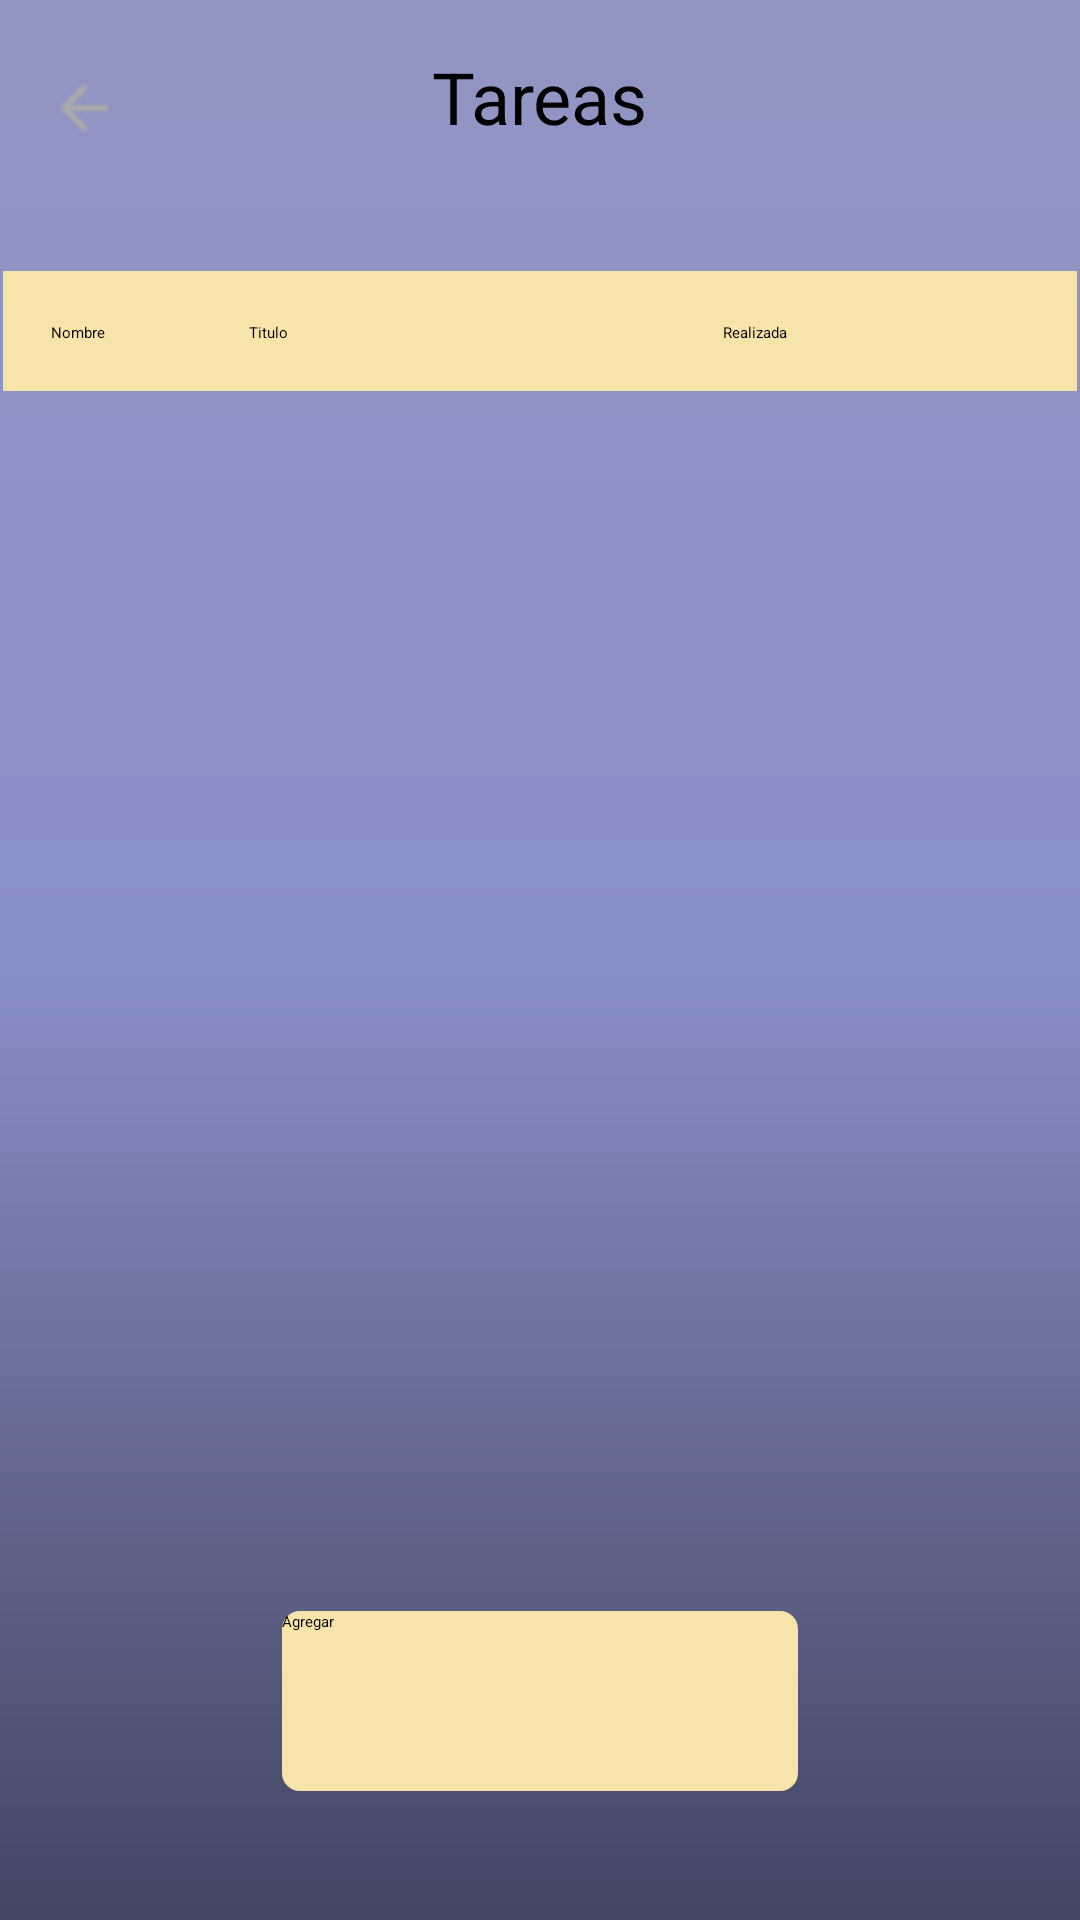

Icon click points for this 1080px×1920px phone screenshot, format [x,y]:
flecha: [85,108]
